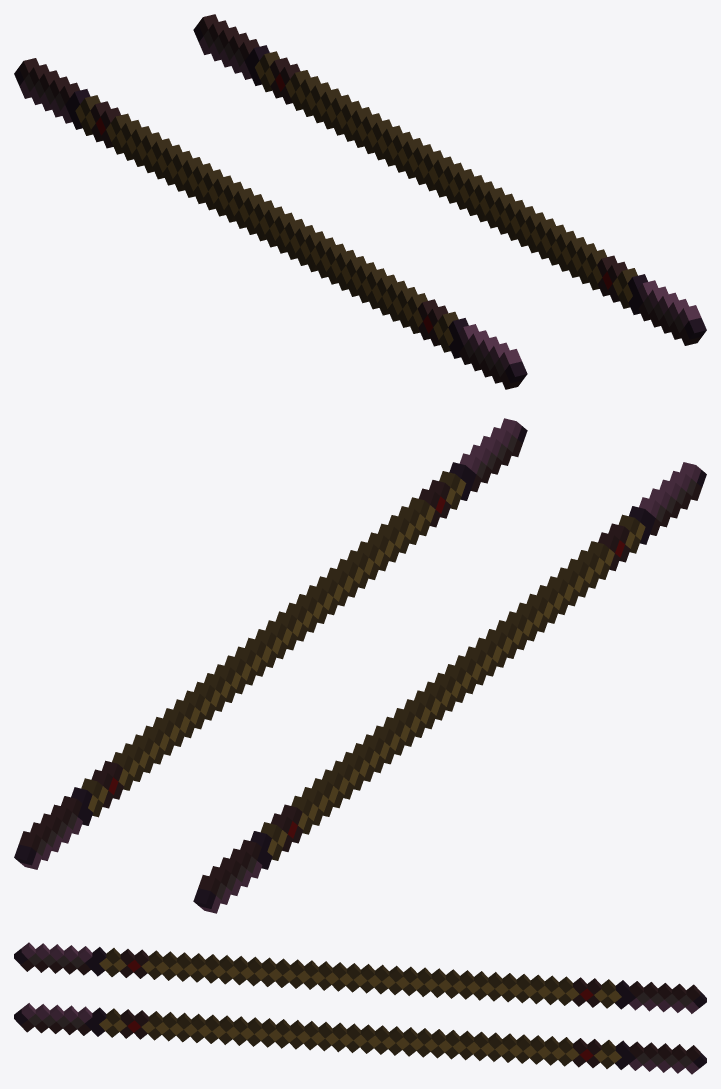
Rendered from netherite_staff.glb.
The picture shows the model from 3 angles, top to bottom: view 1: azimuth 30°, elevation 25°; view 2: azimuth 150°, elevation 25°; view 3: azimuth 270°, elevation 25°; orthographic projection. The views are drawn at different scales.
Parts seen in each view (by area): view 1: main__Tool_R, off__Tool_L; view 2: main__Tool_R, off__Tool_L; view 3: main__Tool_R, off__Tool_L.
Boxes of the visible parts, x1=… form: main__Tool_R: x1=193, y1=14, x2=706, y2=345; off__Tool_L: x1=14, y1=58, x2=527, y2=389; main__Tool_R: x1=14, y1=418, x2=527, y2=869; off__Tool_L: x1=193, y1=462, x2=706, y2=913; main__Tool_R: x1=14, y1=1003, x2=706, y2=1074; off__Tool_L: x1=14, y1=942, x2=706, y2=1013.
Bounding box in the file's own units: 0.8025 × 0.3915 × 3.63.
1 material, 1 textured.
